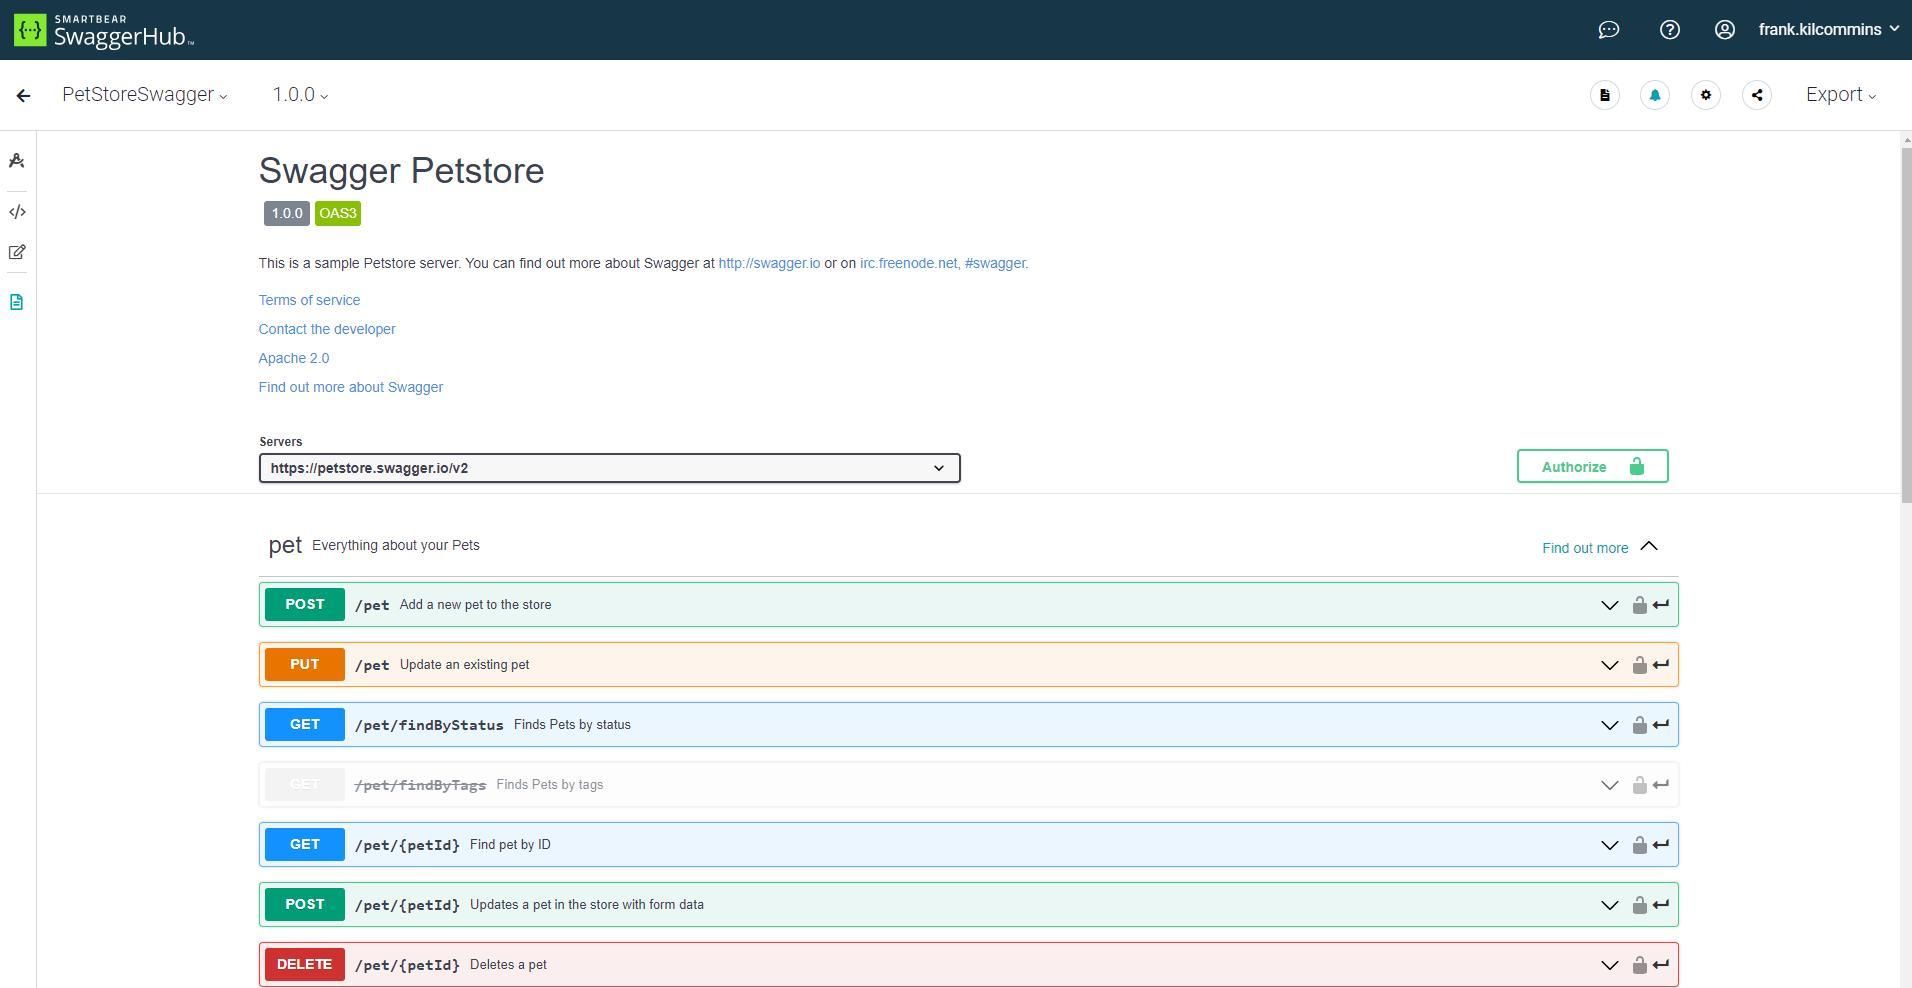button: (1517, 449, 1670, 484)
dropdown: (257, 762, 1682, 810), (259, 702, 1680, 750), (259, 883, 1682, 930), (259, 823, 1680, 870), (261, 944, 1682, 988), (259, 583, 1678, 628), (259, 644, 1678, 688), (261, 455, 962, 484)
icon: (1591, 79, 1624, 112), (1690, 79, 1722, 113), (1742, 81, 1773, 113), (1640, 82, 1671, 113), (1595, 19, 1627, 48), (1654, 18, 1687, 44), (1712, 16, 1741, 44), (13, 84, 37, 111), (9, 291, 29, 318), (8, 241, 30, 263), (9, 203, 31, 223), (9, 150, 26, 174), (1865, 89, 1882, 108), (1889, 20, 1906, 37)
label: (267, 533, 482, 565), (1758, 21, 1886, 40), (262, 434, 307, 449)
